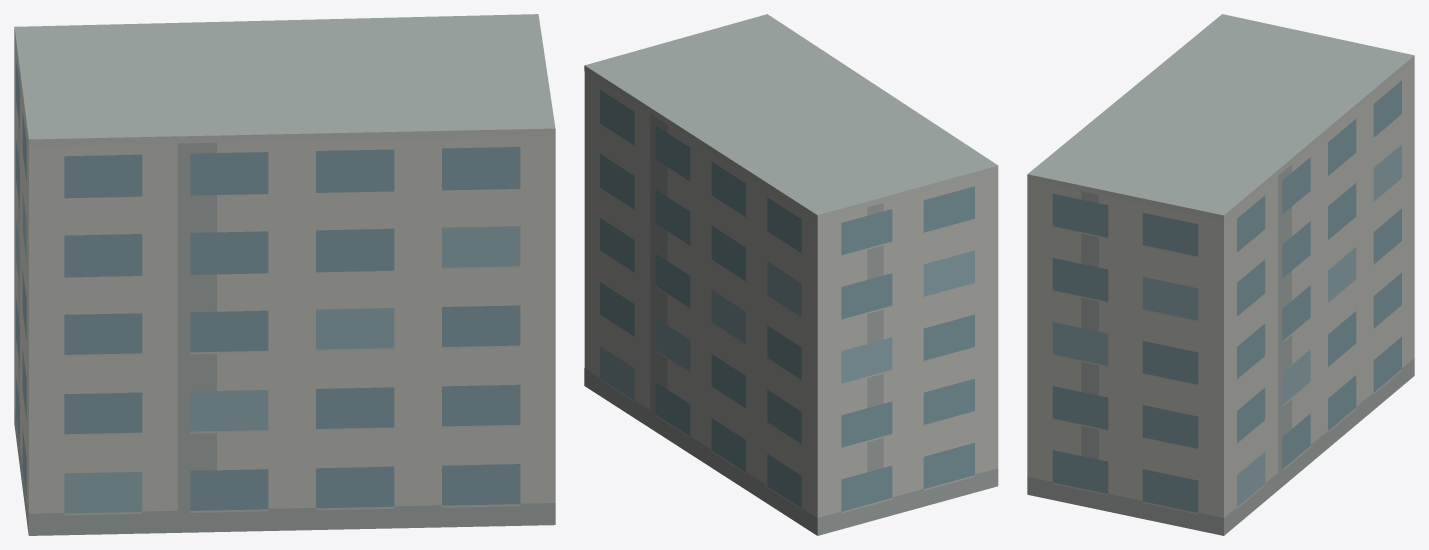
Rendered from survey-upis-32884388.glb.
3 renders of one model, left to right at view 1: azimuth 30°, elevation 25°; view 2: azimuth 150°, elevation 25°; view 3: azimuth 270°, elevation 25°, orthographic. The views are drawn at different scales.
Visible parts, largest first — view 1: survey-upis-32884388.tmp; view 2: survey-upis-32884388.tmp; view 3: survey-upis-32884388.tmp.
Part boxes in pixels (left/top/right/bottom): survey-upis-32884388.tmp: left=14, top=14, right=555, bottom=535; survey-upis-32884388.tmp: left=584, top=14, right=998, bottom=535; survey-upis-32884388.tmp: left=1027, top=14, right=1414, bottom=535.
Size of the model in its own units: 18.07 by 13.4 by 14.68.
